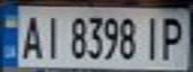3: (84, 12, 106, 61)
8: (118, 12, 142, 61), (66, 12, 87, 60)
9: (103, 14, 121, 61)
A: (18, 11, 45, 61)
I: (39, 11, 66, 61), (139, 12, 166, 62)
P: (157, 12, 190, 62)
